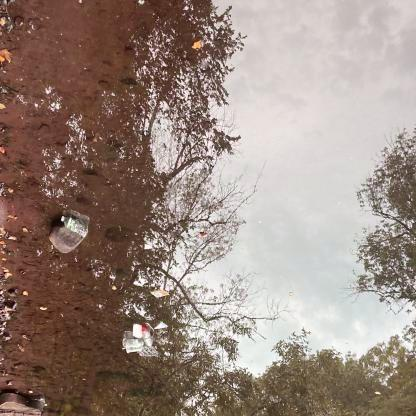Plastic: (60, 214, 90, 240), (132, 324, 157, 347), (121, 343, 155, 358), (152, 318, 170, 330)
